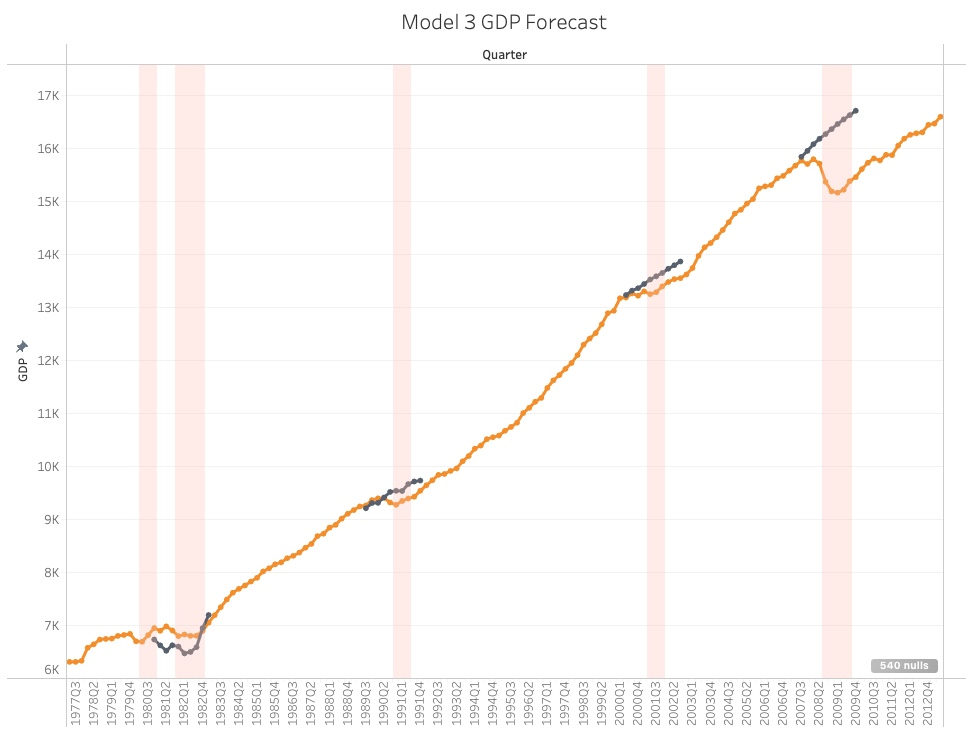

The page's visual inventory and layout, read from the dashboard file:
{"tool":"tableau","page":{"name":"Dashboard 3","canvas":[1000,1000],"units":"permille","ordinal":2},"visuals":[{"type":"worksheet","title":"GDP v M","mark":"Line","rows":["GDPC1","Avg. M-Score"],"cols":["Quarter"],"box":[6.9,11.4,847.2,977.1]},{"type":"legend","title":"GDP v M","param":"[federated.1qum8xs12rffg111hsp3w14a488t].[:Measure Names]","box":[854.2,11.4,138.9,94.3]}]}

Visuals, with their boxes on the dashboard's canvas, which has no fixed pixel size, in thousandths of its width and height (x1, y1, x2, y2). These are canvas units, not pixel positions in the 966x731 screenshot, which may show the page scaled, cropped or inside an application window:
"GDP v M" worksheet (Line marks): <region>7, 11, 854, 988</region>
"GDP v M" legend: <region>854, 11, 993, 106</region>
